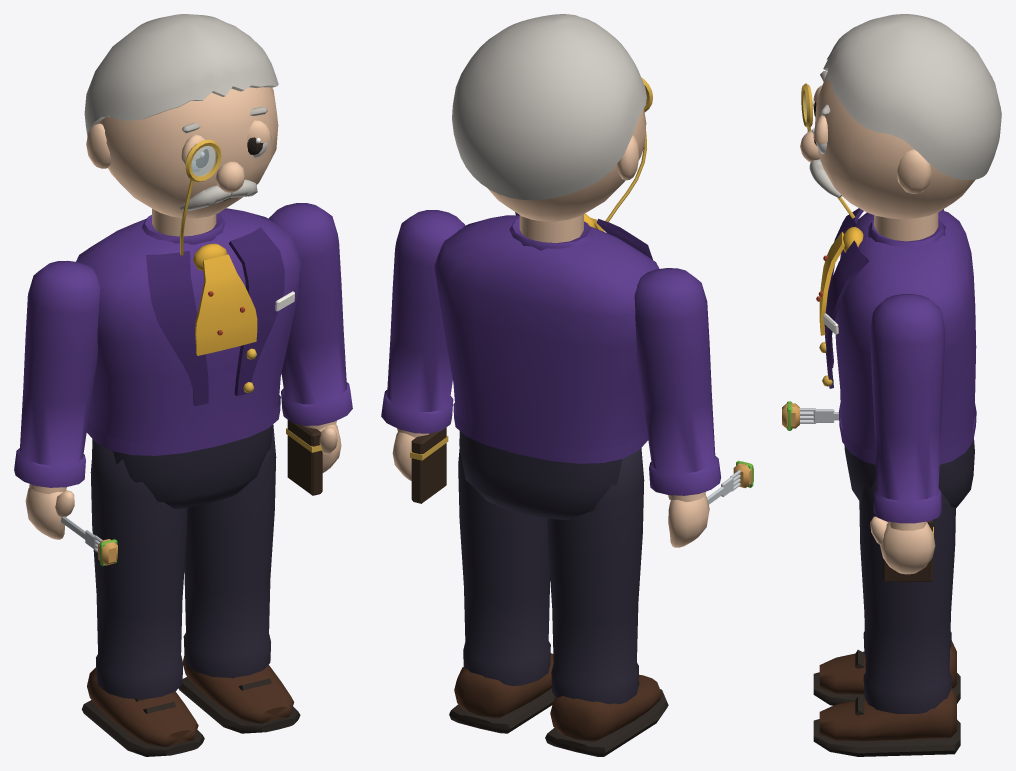
The model's file is Character_Class_food_critic.fbx.
3 renders of one model, left to right at view 1: azimuth 30°, elevation 25°; view 2: azimuth 150°, elevation 25°; view 3: azimuth 270°, elevation 25°, orthographic.
Parts seen in each view (by area): view 1: Torso, LegR, Head, LegL, ArmR, Hair, ArmL, Hips, Ascot, LapelR, LapelL, LegR_Shoe (+9 smaller); view 2: Torso, Hair, LegR, ArmR, LegL, ArmL, Hips, Head, LegR_Shoe, LegL_Shoe, Notebook, LegR_Sole (+4 smaller); view 3: Hair, Torso, ArmL, LegL, Head, LegL_Shoe, HandL, LegL_Sole, Hips, LegR_Shoe, LapelL, Ascot (+6 smaller).
Part boxes in pixels (x1=…): Torso: x1=76, y1=208, x2=301, y2=455; LegR: x1=90, y1=442, x2=187, y2=699; Head: x1=86, y1=87, x2=278, y2=236; LegL: x1=183, y1=424, x2=276, y2=677; ArmR: x1=14, y1=260, x2=100, y2=487; Hair: x1=84, y1=14, x2=278, y2=136; ArmL: x1=269, y1=203, x2=352, y2=425; Hips: x1=92, y1=425, x2=272, y2=508; Ascot: x1=193, y1=243, x2=257, y2=355; LapelR: x1=146, y1=251, x2=208, y2=406; LapelL: x1=229, y1=227, x2=284, y2=396; LegR_Shoe: x1=87, y1=667, x2=198, y2=746; Torso: x1=434, y1=215, x2=659, y2=463; Hair: x1=452, y1=14, x2=646, y2=200; LegR: x1=547, y1=449, x2=644, y2=704; ArmR: x1=634, y1=268, x2=721, y2=495; LegL: x1=458, y1=449, x2=550, y2=685; ArmL: x1=381, y1=210, x2=465, y2=433; Hips: x1=459, y1=431, x2=641, y2=520; Head: x1=487, y1=108, x2=646, y2=242; LegR_Shoe: x1=550, y1=674, x2=662, y2=741; LegL_Shoe: x1=454, y1=653, x2=553, y2=718; Notebook: x1=411, y1=427, x2=446, y2=503; LegR_Sole: x1=545, y1=682, x2=668, y2=756; Hair: x1=823, y1=14, x2=1001, y2=179; Torso: x1=835, y1=210, x2=976, y2=464; ArmL: x1=870, y1=294, x2=945, y2=523; LegL: x1=859, y1=478, x2=955, y2=713; Head: x1=800, y1=72, x2=975, y2=241; LegL_Shoe: x1=819, y1=686, x2=956, y2=741; HandL: x1=870, y1=516, x2=935, y2=574; LegL_Sole: x1=813, y1=696, x2=960, y2=756; Hips: x1=844, y1=438, x2=974, y2=507; LegR_Shoe: x1=819, y1=640, x2=956, y2=694; LapelL: x1=824, y1=240, x2=869, y2=388; Ascot: x1=819, y1=227, x2=863, y2=335.
Size of the model in its own units: 253 by 514 by 147.
